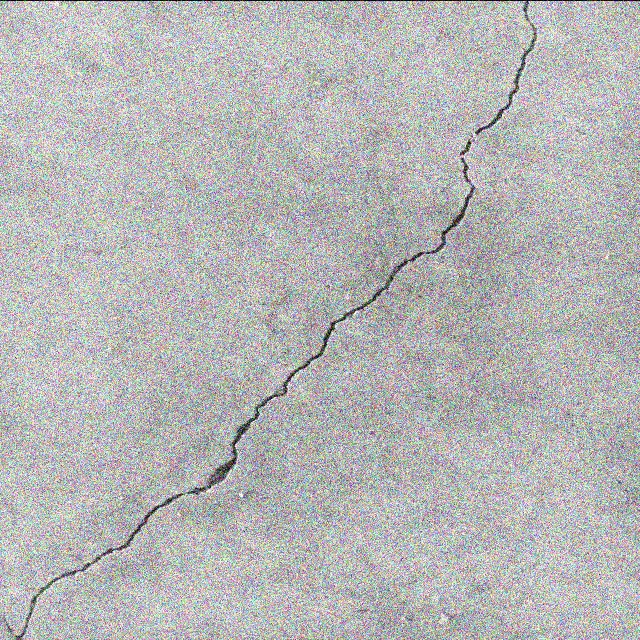SurfaceCrack: (0, 1, 606, 639)
